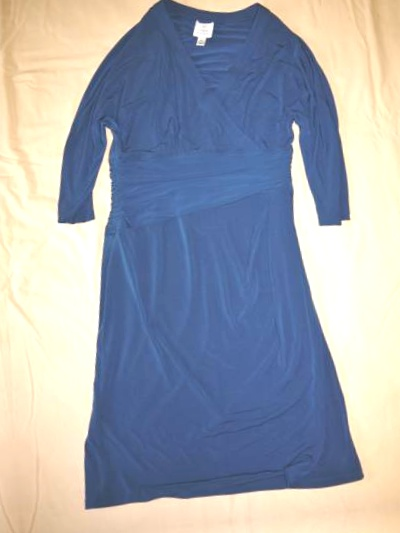Dress: (11, 0, 393, 520), (61, 525, 400, 533)
